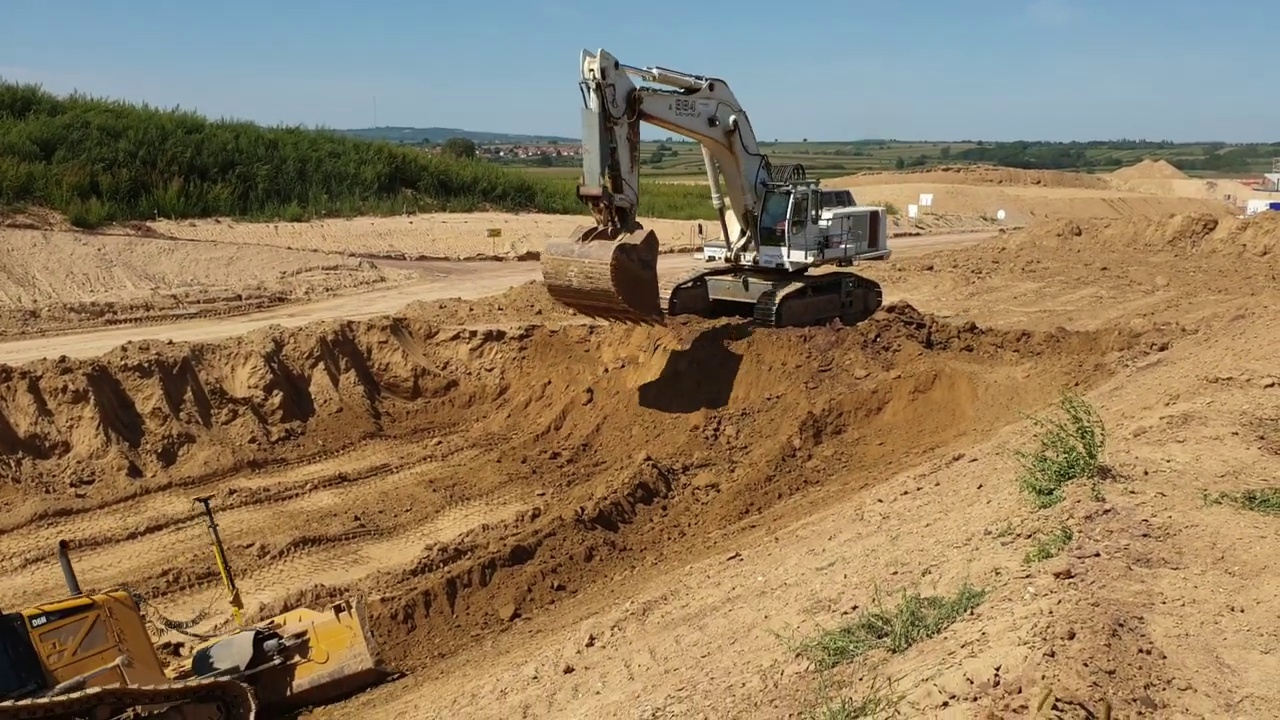bulldozer: (4, 493, 381, 720)
excavator: (539, 43, 897, 333)
